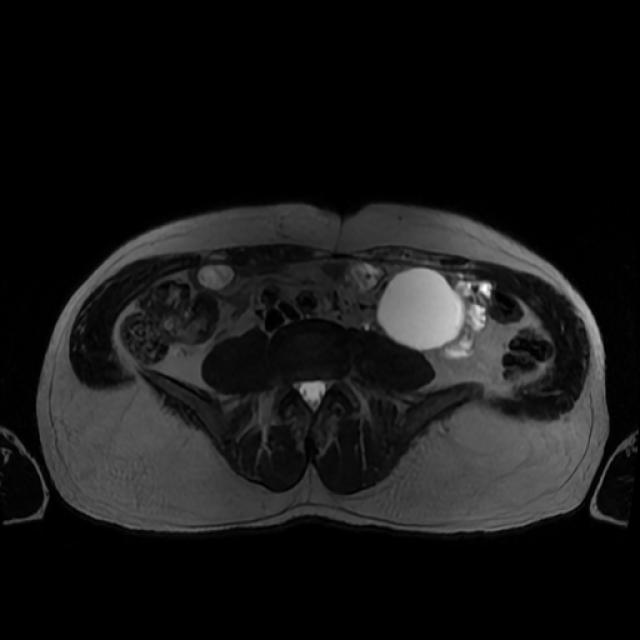sol: (379, 268, 467, 351)
